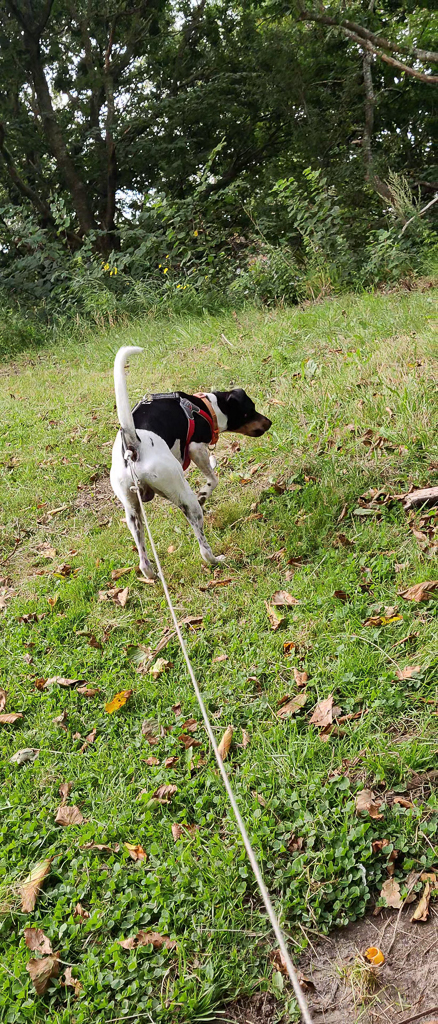Dog: (89, 327, 310, 610)
